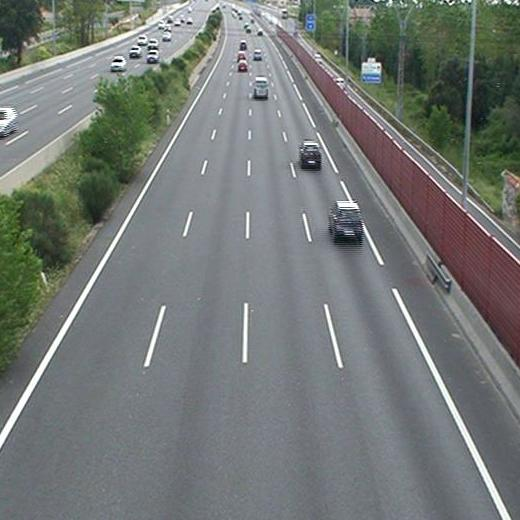car: (329, 202, 363, 237), (300, 142, 321, 163), (237, 60, 248, 71), (252, 50, 263, 60), (236, 51, 246, 60)
van: (254, 78, 268, 98)
